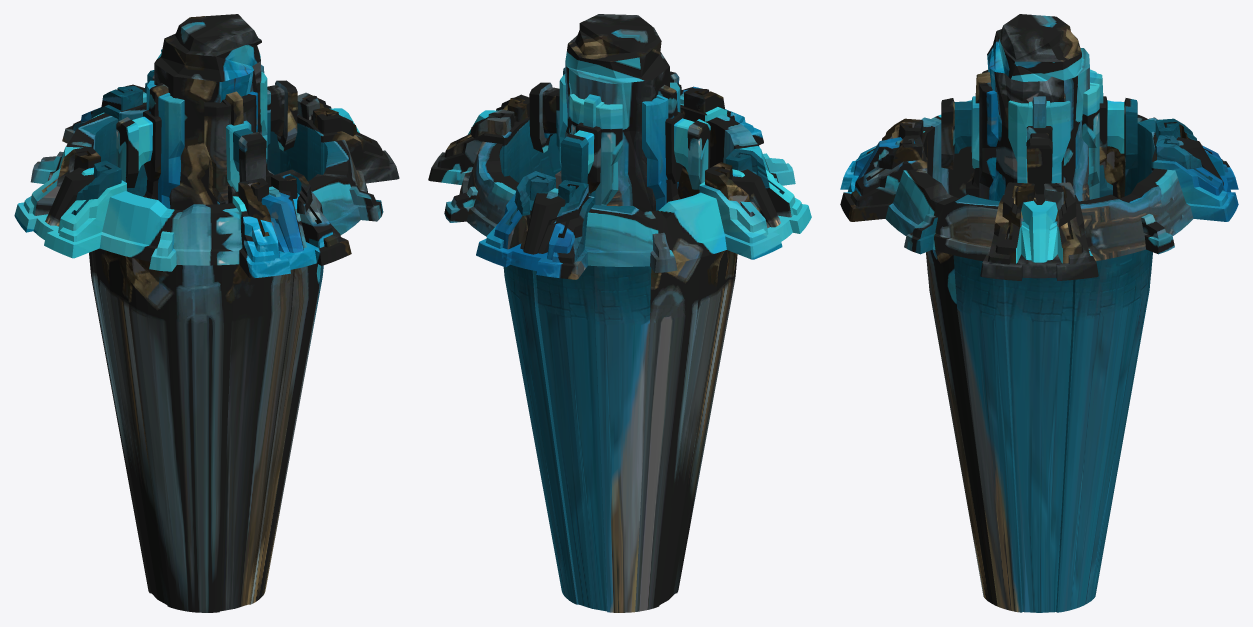
The model's file is Nexus.obj.
3 renders of one model, left to right at view 1: azimuth 30°, elevation 25°; view 2: azimuth 150°, elevation 25°; view 3: azimuth 270°, elevation 25°, orthographic.
Visible parts, largest first — view 1: Nexus; view 2: Nexus; view 3: Nexus.
Boxes of the visible parts, left/top/right/bottom form: Nexus: left=14, top=14, right=399, bottom=612; Nexus: left=428, top=14, right=811, bottom=612; Nexus: left=840, top=14, right=1238, bottom=612.
Size of the model in its own units: 2.56 by 4 by 2.56.
Materials: 1 (1 with a texture image).
